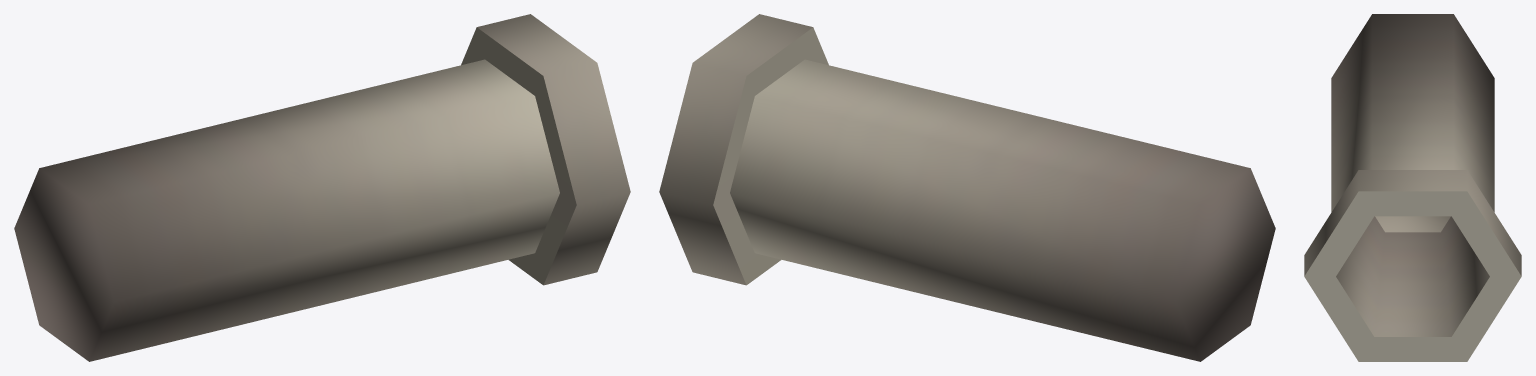
Rendered from SM_Blockout_Pipe_01.fbx.
The picture shows the model from 3 angles, left to right: view 1: azimuth 30°, elevation 25°; view 2: azimuth 150°, elevation 25°; view 3: azimuth 270°, elevation 25°; orthographic projection. The views are drawn at different scales.
Visible parts, largest first — view 1: SM_Blockout_Pipe_01; view 2: SM_Blockout_Pipe_01; view 3: SM_Blockout_Pipe_01.
Boxes of the visible parts, box(x1,y1,x2,y2) form: SM_Blockout_Pipe_01: box(14, 14, 630, 361); SM_Blockout_Pipe_01: box(659, 14, 1275, 361); SM_Blockout_Pipe_01: box(1304, 14, 1521, 361).
Size of the model in its own units: 0.6587 by 0.2638 by 0.3046.
